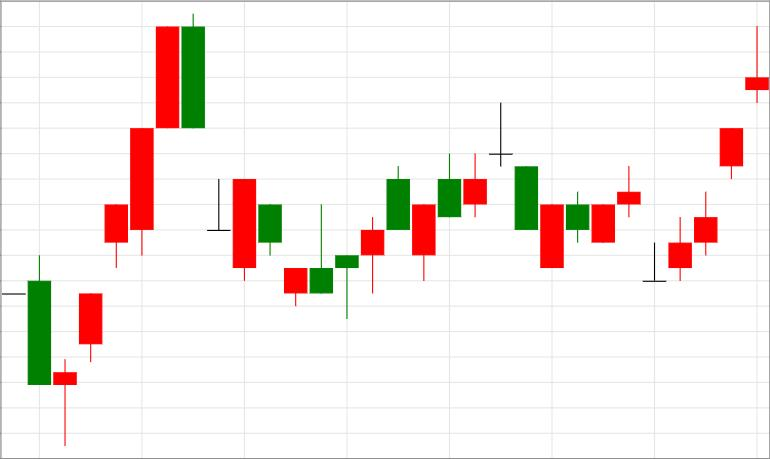bearish_engulfing_fall: (54, 13, 205, 445)
evening_star_fall: (412, 103, 538, 282)
